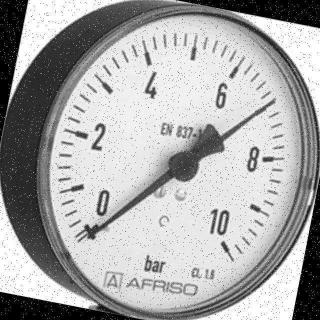gauge: (44, 0, 320, 320), (77, 208, 115, 248), (206, 224, 242, 264), (168, 148, 200, 182), (84, 227, 100, 243), (266, 94, 280, 108)
